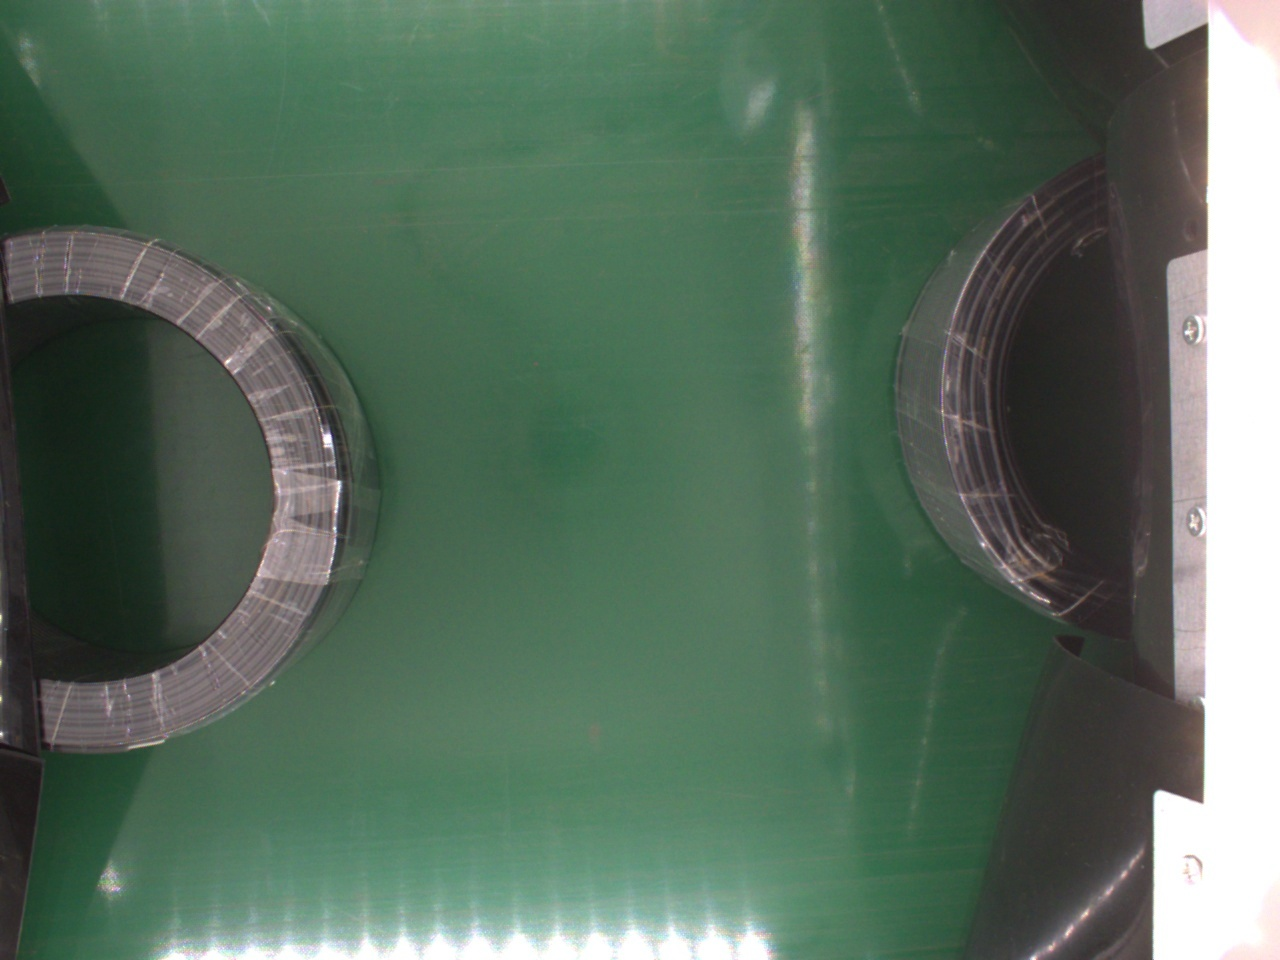black: (4, 228, 381, 753), (889, 155, 1143, 648)
